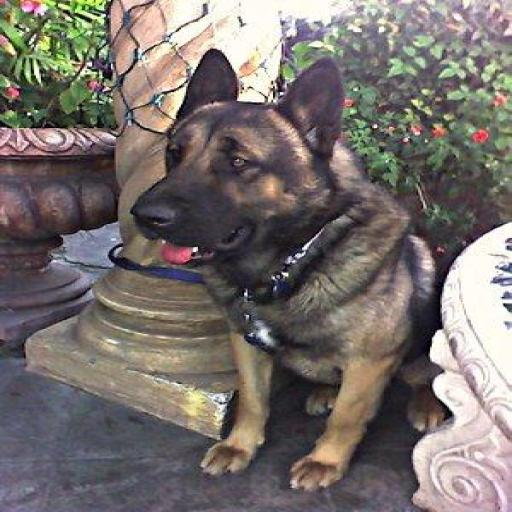dog_face: (134, 36, 351, 257)
